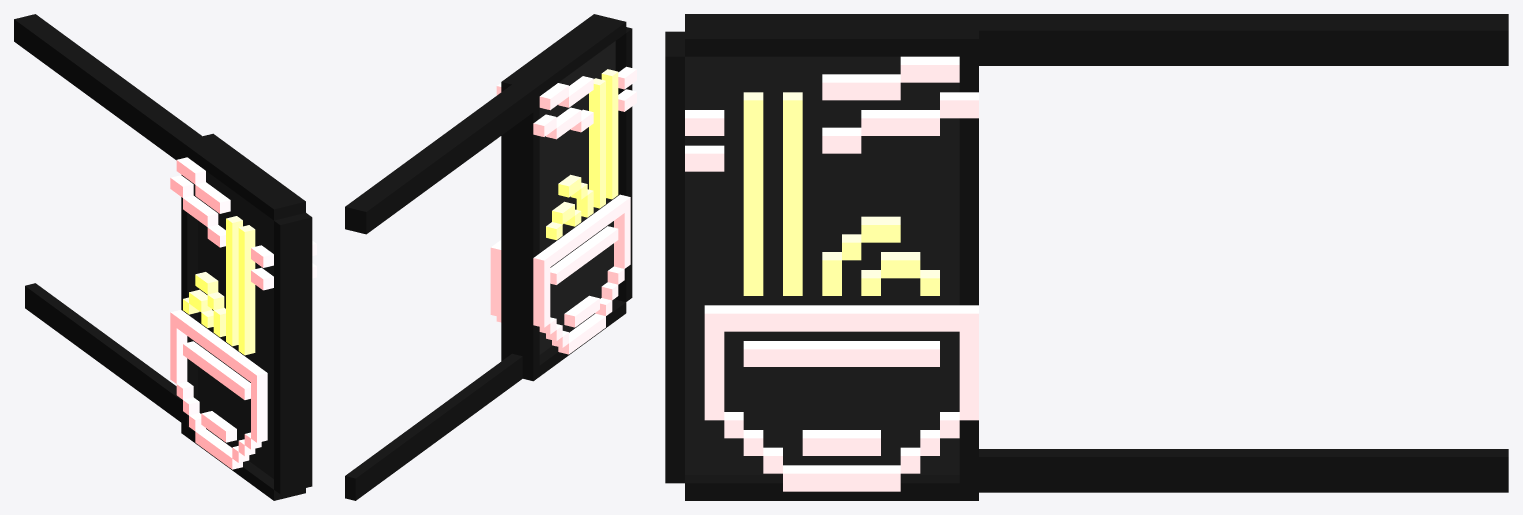
Rendered from ramenSign.glb.
3 views of the same model, side by side, from view 1: azimuth 30°, elevation 25°; view 2: azimuth 150°, elevation 25°; view 3: azimuth 270°, elevation 25° (orthographic). The views are drawn at different scales.
Parts seen in each view (by area): view 1: ObjObject; view 2: ObjObject; view 3: ObjObject.
Part boxes in pixels (left/top/right/bottom): ObjObject: left=14, top=14, right=316, bottom=500; ObjObject: left=345, top=14, right=636, bottom=500; ObjObject: left=665, top=14, right=1508, bottom=500.
Bounding box in the file's own units: 0.5 × 2.6 × 4.3.
3 materials, 1 textured.
